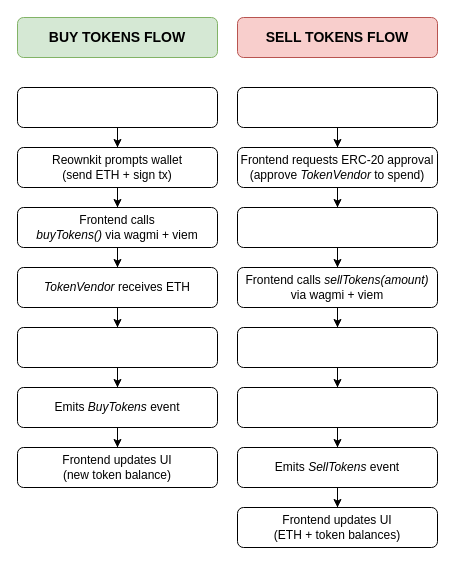
The diagram is 455 pixels wide and 565 high, and some of its shapes have lost their labels. Each missing label, with the centre of its shape:
Reownkit prompts approval tx (user confirms in wallet): pixel 337 227
TokenVendor receives MyToken: pixel 337 347
TokenVendor sends ETH to user: pixel 337 407
TokenVendor sends MyToken to user’s wallet: pixel 117 347
User clicks "Buy Tokens": pixel 117 107
User clicks "Sell Tokens": pixel 337 107
